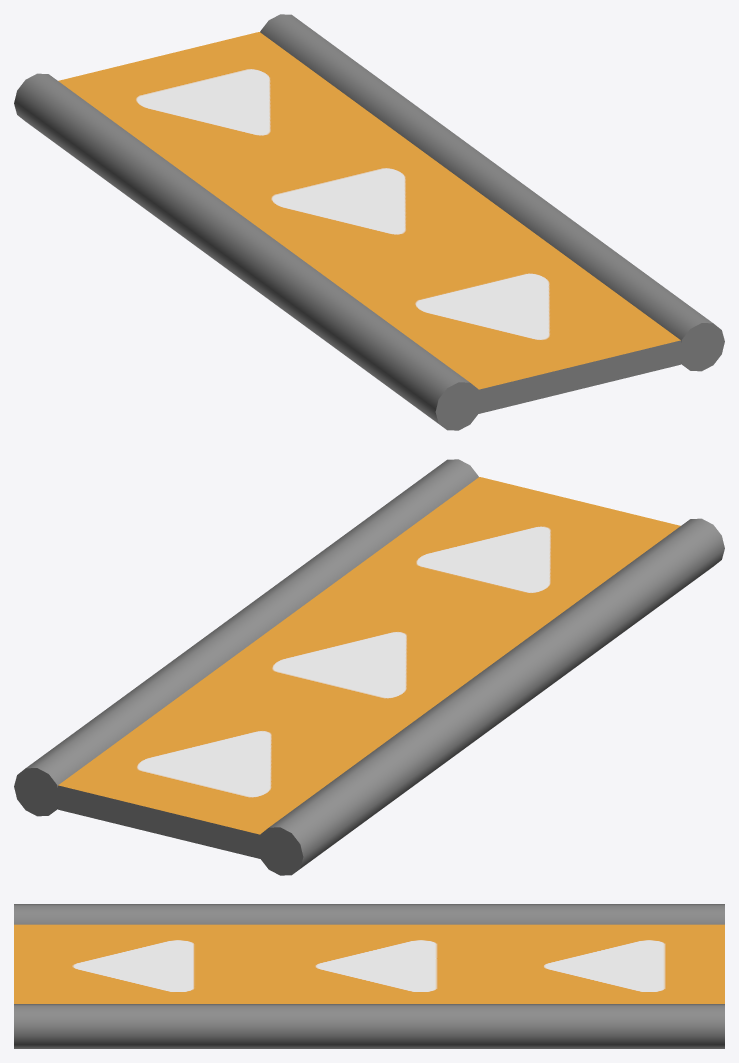
Rendered from PLF0110183.fbx.
3 views of the same model, one above another, from view 1: azimuth 30°, elevation 25°; view 2: azimuth 150°, elevation 25°; view 3: azimuth 270°, elevation 25° (orthographic). The views are drawn at different scales.
Parts seen in each view (by area): view 1: smPLF0110183; view 2: smPLF0110183; view 3: smPLF0110183.
Boxes of the visible parts, x1=… form: smPLF0110183: x1=14, y1=14, x2=724, y2=430; smPLF0110183: x1=14, y1=459, x2=724, y2=875; smPLF0110183: x1=14, y1=904, x2=724, y2=1048.
Bounding box in the file's own units: 183 × 29.18 × 461.
